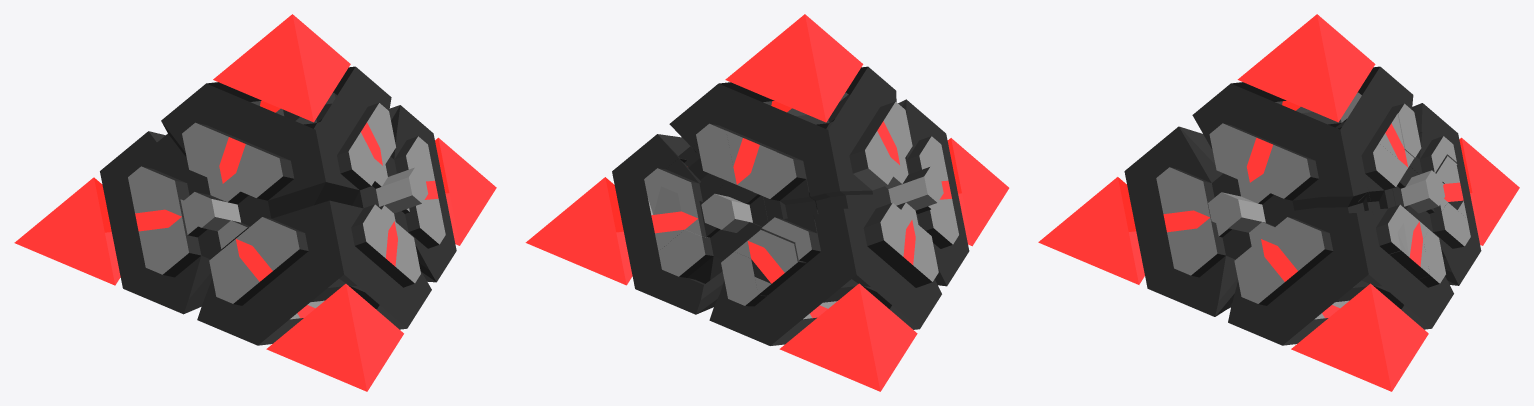
Rendered from tmRs.gltf.
The picture shows the model from 3 angles, left to right: view 1: azimuth 30°, elevation 25°; view 2: azimuth 150°, elevation 25°; view 3: azimuth 270°, elevation 25°; orthographic projection.
Parts seen in each view (by area): view 1: ConeRed; view 2: ConeRed; view 3: ConeRed.
Part boxes in pixels (x1=…): ConeRed: x1=14, y1=14, x2=496, y2=391; ConeRed: x1=525, y1=14, x2=1009, y2=391; ConeRed: x1=1038, y1=14, x2=1519, y2=391.
Bounding box in the file's own units: 0.3346 × 0.2186 × 0.3336.
